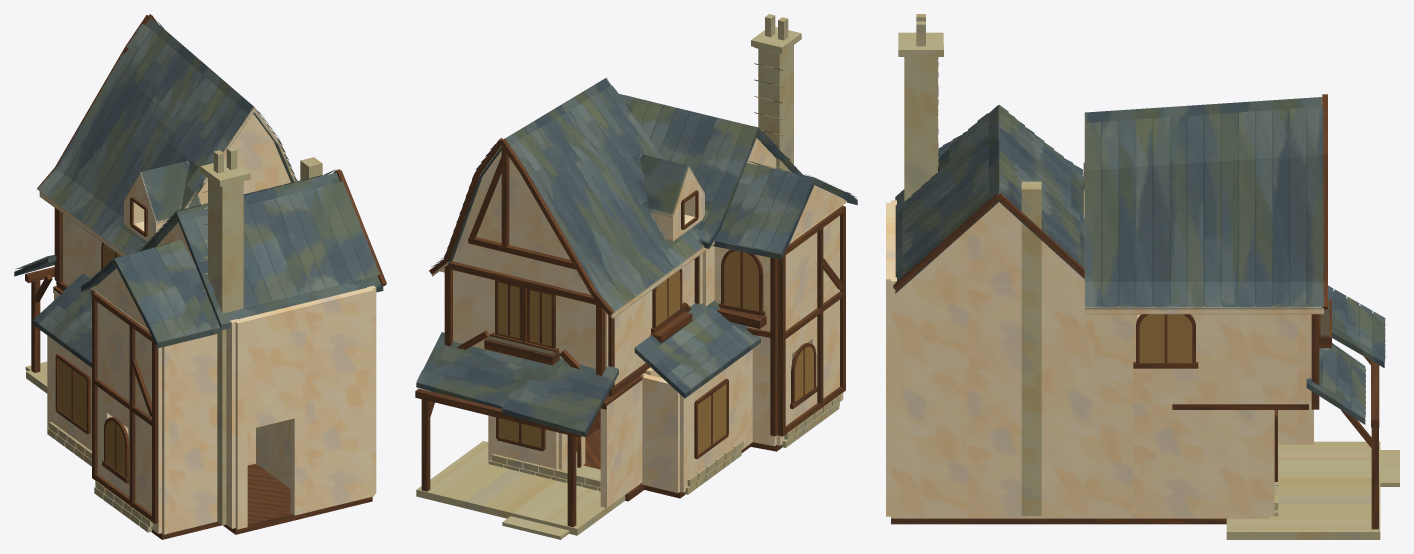
File: CM_B_StyledProof06.fbx
3 views of the same model, side by side, from view 1: azimuth 30°, elevation 25°; view 2: azimuth 150°, elevation 25°; view 3: azimuth 270°, elevation 25° (orthographic). The views are drawn at different scales.
Parts seen in each view (by area): view 1: Shell, Dress_Slate2_PresentationOnly, Dress_Slate0_PresentationOnly, Dress_Slate1_PresentationOnly, Roof_Hero, Chimney, Dress_Timber_PresentationOnly, Roof_RearCross, Window, Floor_RearStem, Roof_Hero_GableRear, Roof_SubordinateCross (+7 smaller); view 2: Shell, Dress_Slate1_PresentationOnly, Dress_Slate2_PresentationOnly, Dress_Slate0_PresentationOnly, Dress_Timber_PresentationOnly, Window, Roof_Hero, Floor_Porch, Roof_Hero_GableFront, Chimney, Porch, Dress_Stone_PresentationOnly (+10 smaller); view 3: Shell, Dress_Slate2_PresentationOnly, Dress_Slate0_PresentationOnly, Dress_Slate1_PresentationOnly, Chimney, Floor_Porch, Roof_Hero, Roof_RearCross_GableFront, Roof_RearCross, Window, Porch, Roof_RearCross_Bargeboard (+7 smaller).
Boxes of the visible parts, <box> form: Shell: <box>47,214,376,534</box>; Dress_Slate2_PresentationOnly: <box>20,30,365,361</box>; Dress_Slate0_PresentationOnly: <box>26,22,379,345</box>; Dress_Slate1_PresentationOnly: <box>15,37,352,341</box>; Roof_Hero: <box>39,18,295,256</box>; Chimney: <box>200,147,322,525</box>; Dress_Timber_PresentationOnly: <box>54,208,157,523</box>; Roof_RearCross: <box>141,172,383,330</box>; Window: <box>55,197,147,483</box>; Floor_RearStem: <box>223,463,372,534</box>; Roof_Hero_GableRear: <box>197,114,290,204</box>; Roof_SubordinateCross: <box>81,244,221,348</box>; Shell: <box>453,204,843,507</box>; Dress_Slate1_PresentationOnly: <box>433,94,856,430</box>; Dress_Slate2_PresentationOnly: <box>439,85,803,420</box>; Dress_Slate0_PresentationOnly: <box>416,89,792,409</box>; Dress_Timber_PresentationOnly: <box>444,205,845,436</box>; Window: <box>495,190,817,459</box>; Roof_Hero: <box>432,77,715,318</box>; Floor_Porch: <box>416,441,625,535</box>; Roof_Hero_GableFront: <box>440,150,605,311</box>; Chimney: <box>751,14,801,172</box>; Porch: <box>415,388,581,539</box>; Dress_Stone_PresentationOnly: <box>488,47,840,494</box>; Shell: <box>886,200,1313,518</box>; Dress_Slate2_PresentationOnly: <box>902,108,1372,393</box>; Dress_Slate0_PresentationOnly: <box>900,107,1365,417</box>; Dress_Slate1_PresentationOnly: <box>902,104,1385,403</box>; Chimney: <box>898,14,1041,515</box>; Floor_Porch: <box>1226,441,1380,539</box>; Roof_Hero: <box>1083,97,1323,314</box>; Roof_RearCross_GableFront: <box>904,202,1084,286</box>; Roof_RearCross: <box>895,105,1084,293</box>; Window: <box>1133,314,1277,481</box>; Porch: <box>1341,356,1399,529</box>; Roof_RearCross_Bargeboard: <box>893,193,1084,290</box>.
Bounding box in the file's own units: 7.6 × 10.94 × 11.86.
